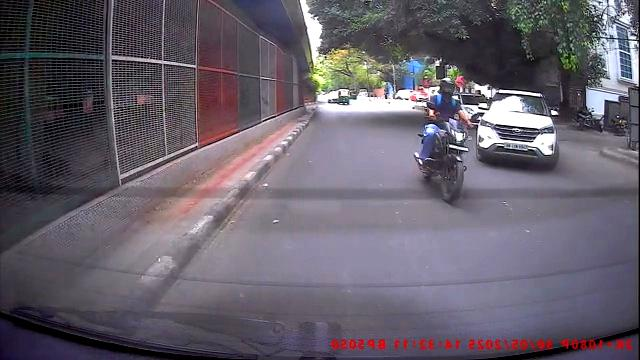motorcycle_with_helmet: (415, 76, 473, 206)
